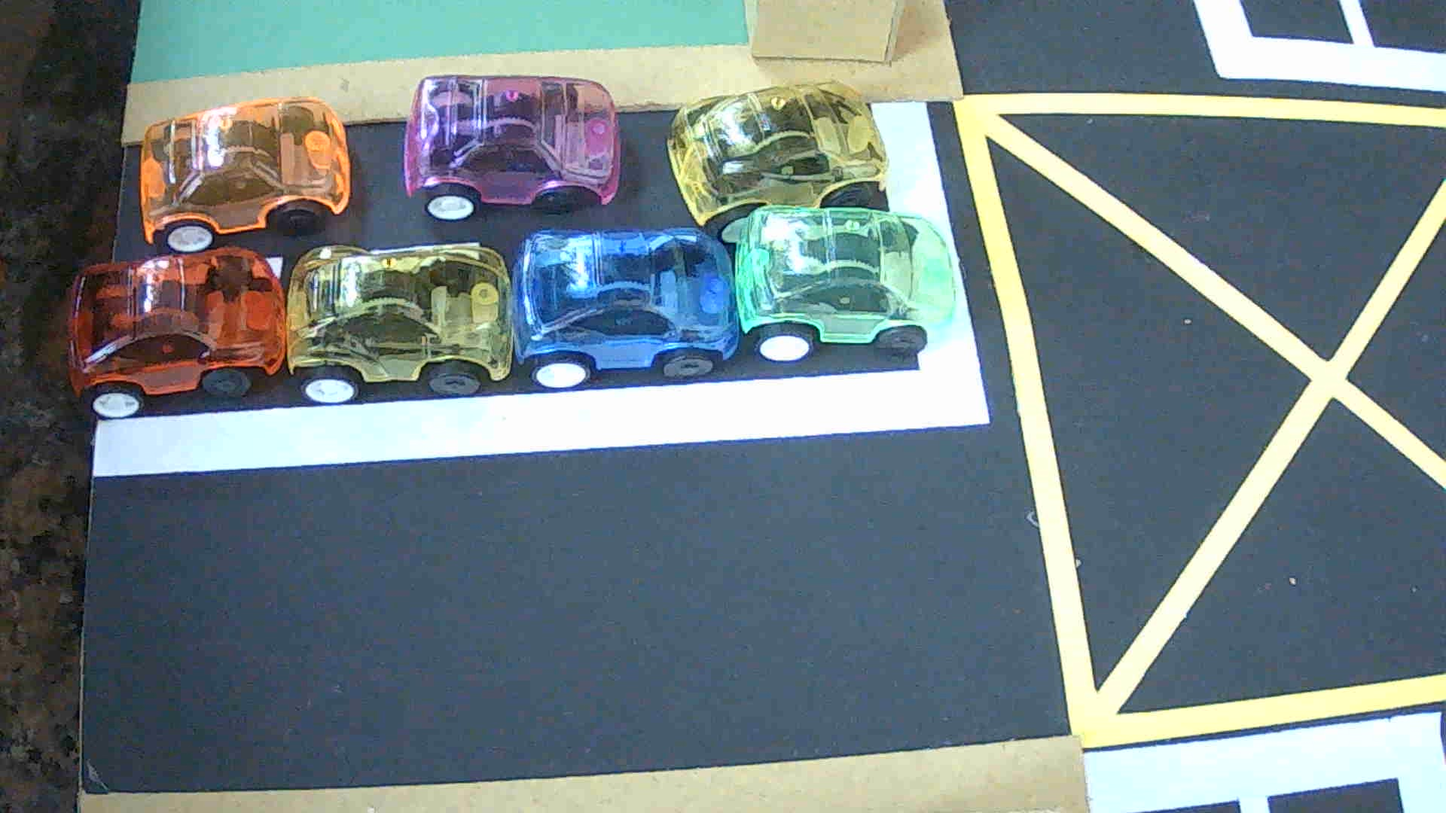Mobil biru: (508, 228, 741, 389)
Mobil hijau: (734, 206, 958, 361)
Mobil kuning: (287, 242, 513, 402), (667, 82, 887, 242)
Mobil merah: (68, 248, 284, 419)
Mobil orange: (139, 96, 350, 252)
Mobil ungu: (403, 75, 621, 219)
